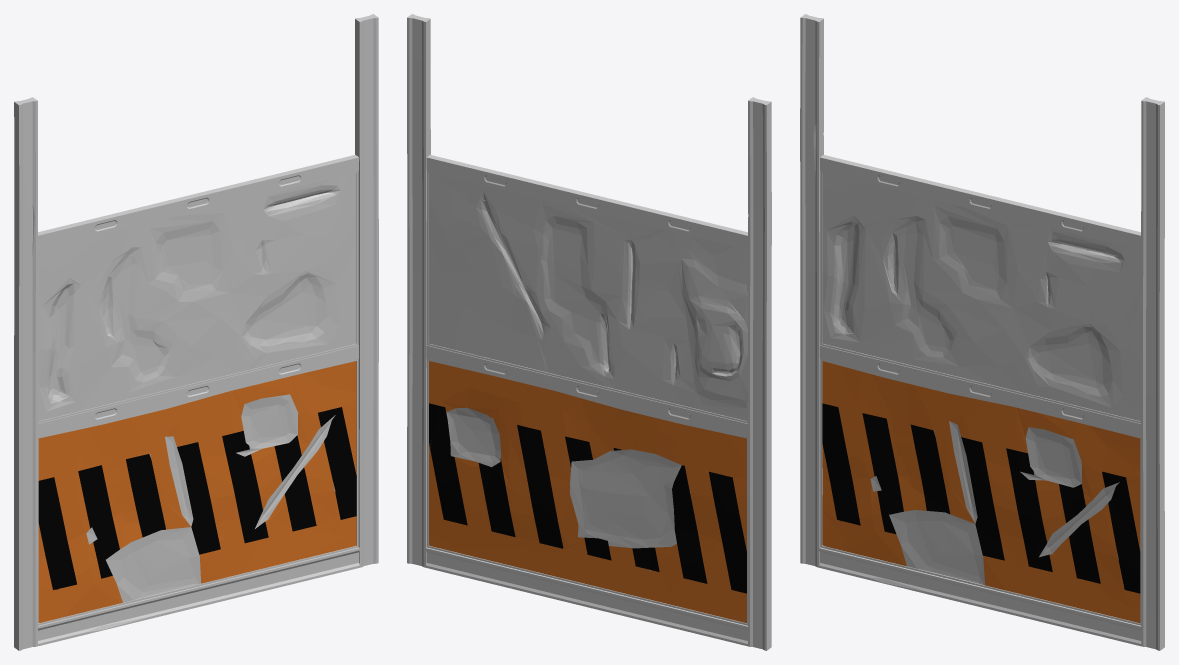
The model's file is SM_Wall_Broken_05.glb.
The picture shows the model from 3 angles, left to right: view 1: azimuth 30°, elevation 25°; view 2: azimuth 150°, elevation 25°; view 3: azimuth 330°, elevation 25°; orthographic projection.
Visible parts, largest first — view 1: SM_Wall_Broken_05; view 2: SM_Wall_Broken_05; view 3: SM_Wall_Broken_05.
Boxes of the visible parts, bbox=[...] form: SM_Wall_Broken_05: bbox=[14, 14, 378, 650]; SM_Wall_Broken_05: bbox=[407, 14, 771, 650]; SM_Wall_Broken_05: bbox=[800, 14, 1164, 650].
Bounding box in the file's own units: 2 × 2.9 × 0.0572.
